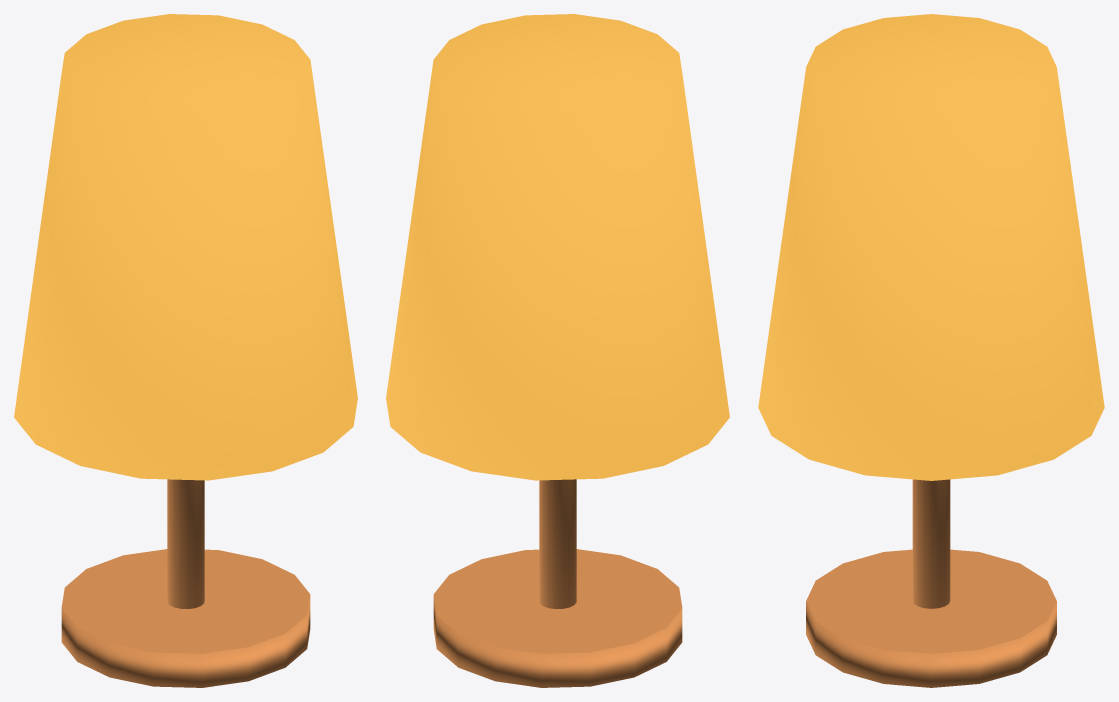
Rendered from standLight.glb.
3 renders of one model, left to right at view 1: azimuth 30°, elevation 25°; view 2: azimuth 150°, elevation 25°; view 3: azimuth 270°, elevation 25°, orthographic.
Parts seen in each view (by area): view 1: Standlight; view 2: Standlight; view 3: Standlight.
Part boxes in pixels (x1=…): Standlight: x1=14, y1=14, x2=357, y2=687; Standlight: x1=386, y1=14, x2=729, y2=687; Standlight: x1=758, y1=14, x2=1104, y2=687.
Bounding box in the file's own units: 0.2764 × 0.5 × 0.2764.
